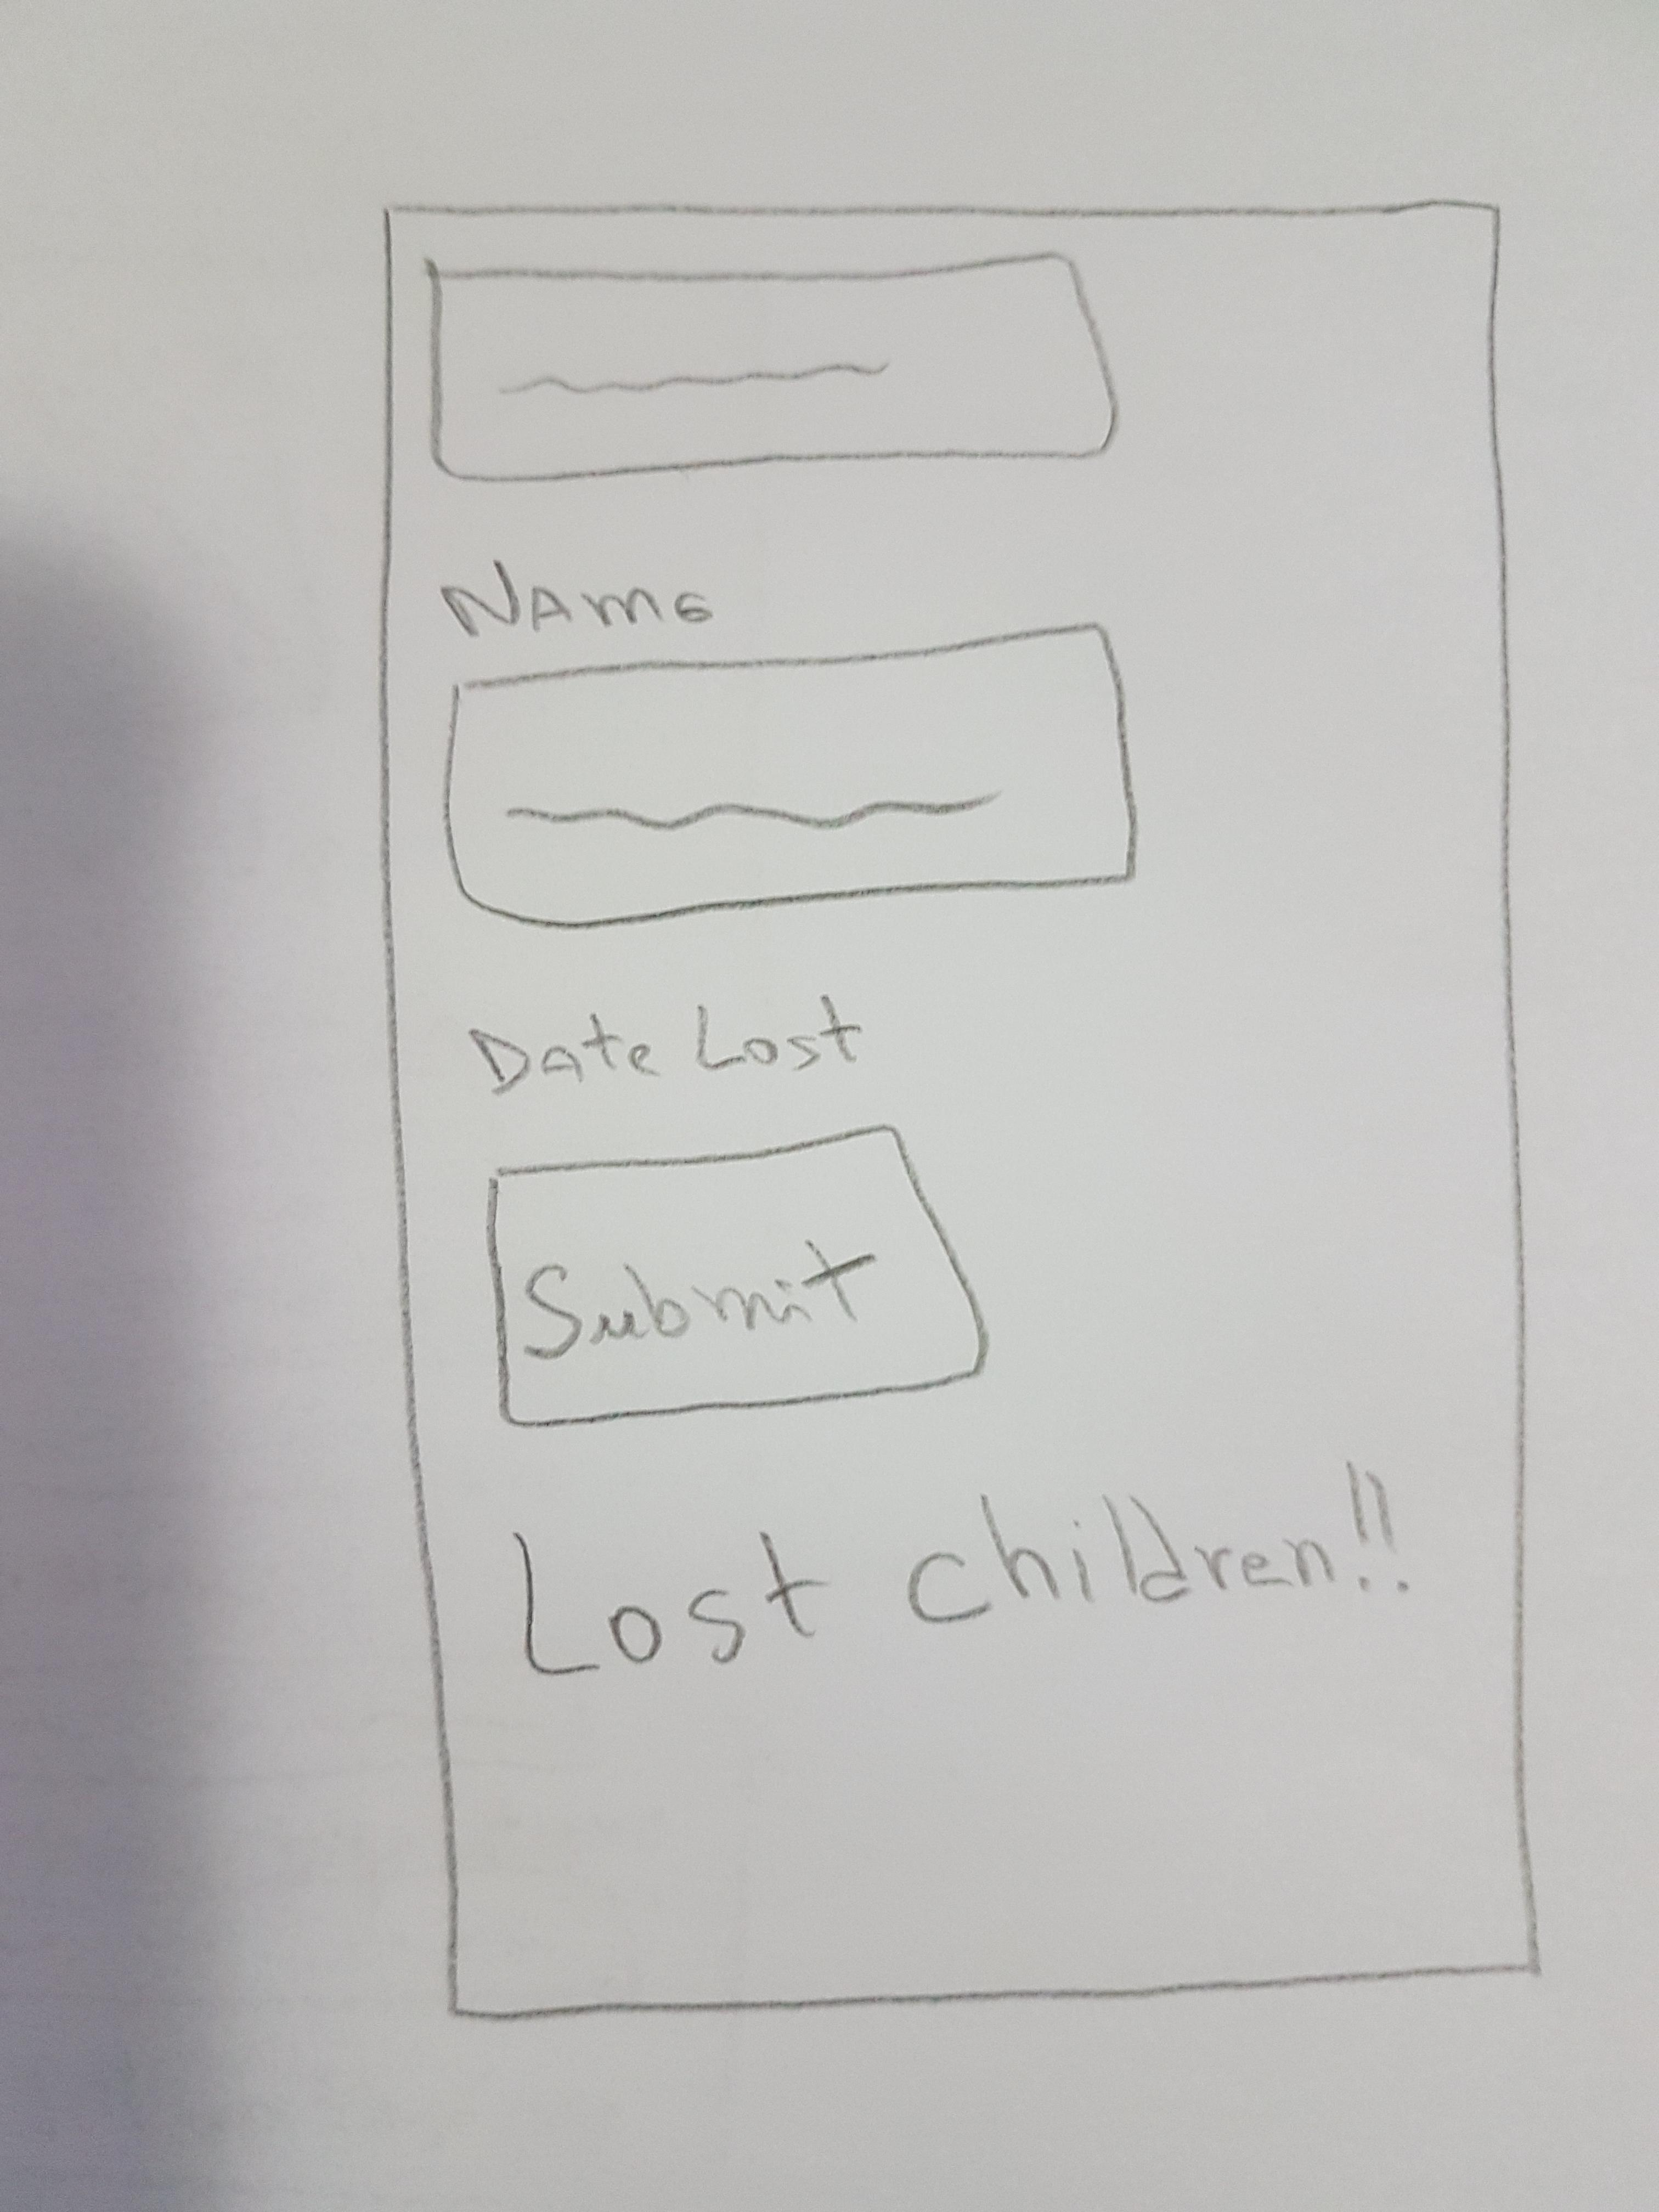Button: (491, 1123, 988, 1432)
Label: (512, 1461, 1408, 1681), (472, 996, 864, 1092), (444, 557, 716, 643)
Screen: (380, 202, 1544, 2024)
TextBox: (444, 624, 1136, 927), (429, 253, 1119, 482)
